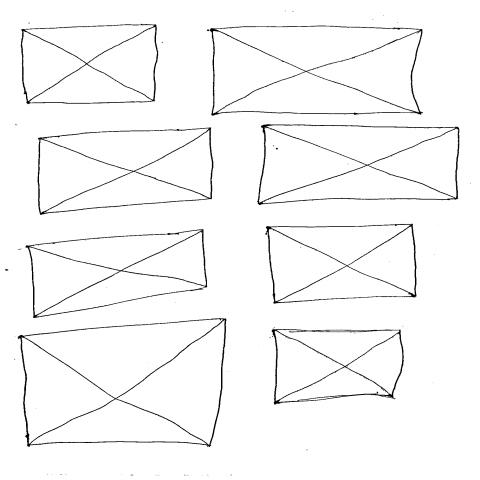Image: (16, 316, 228, 448), (209, 24, 422, 117), (256, 122, 462, 206), (26, 226, 207, 318), (36, 125, 215, 215), (266, 221, 420, 305), (18, 23, 159, 106), (272, 326, 404, 406)
